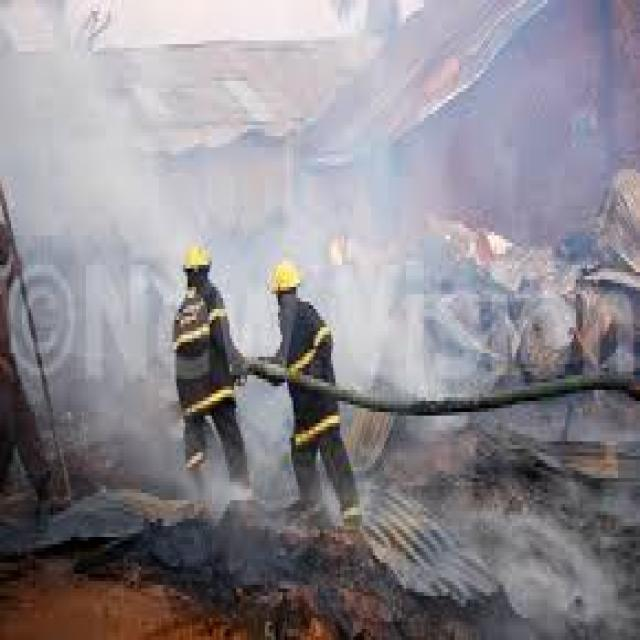Smoke: (0, 4, 164, 453), (482, 499, 627, 640), (340, 182, 433, 376), (164, 156, 341, 244)
